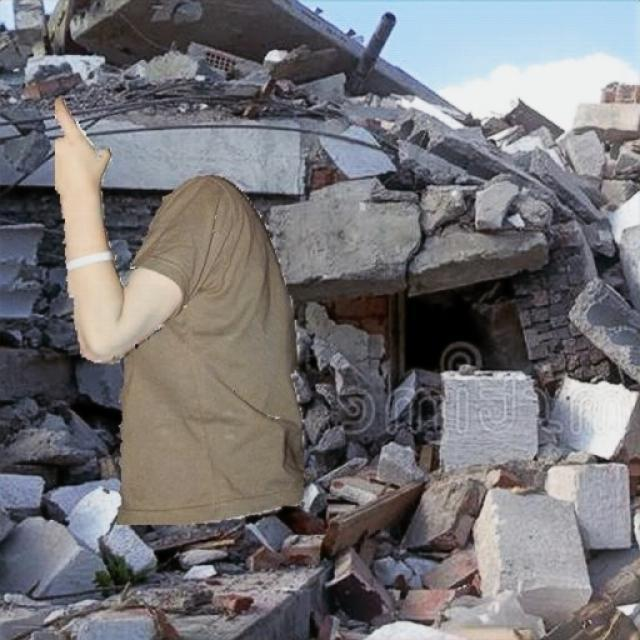Person in Rubble: (55, 98, 303, 524)
